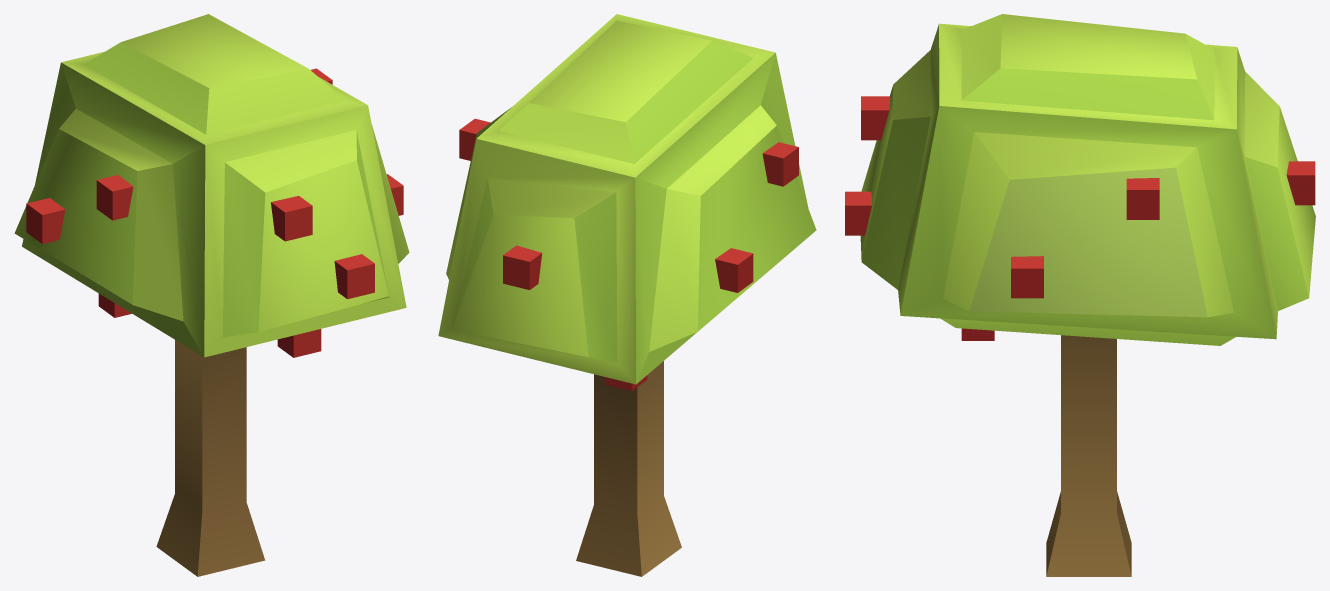
Rendered from Prop_Tree_Apple.glb.
The picture shows the model from 3 angles, left to right: view 1: azimuth 30°, elevation 25°; view 2: azimuth 150°, elevation 25°; view 3: azimuth 270°, elevation 25°; orthographic projection. The views are drawn at different scales.
Parts seen in each view (by area): view 1: Prop_Tree_Apple; view 2: Prop_Tree_Apple; view 3: Prop_Tree_Apple.
Boxes of the visible parts, <box> form: Prop_Tree_Apple: <box>14,14,409,576</box>; Prop_Tree_Apple: <box>438,14,816,576</box>; Prop_Tree_Apple: <box>845,14,1315,576</box>.
Bounding box in the file's own units: 1.23 × 1.97 × 1.6.
1 material, 1 textured.
